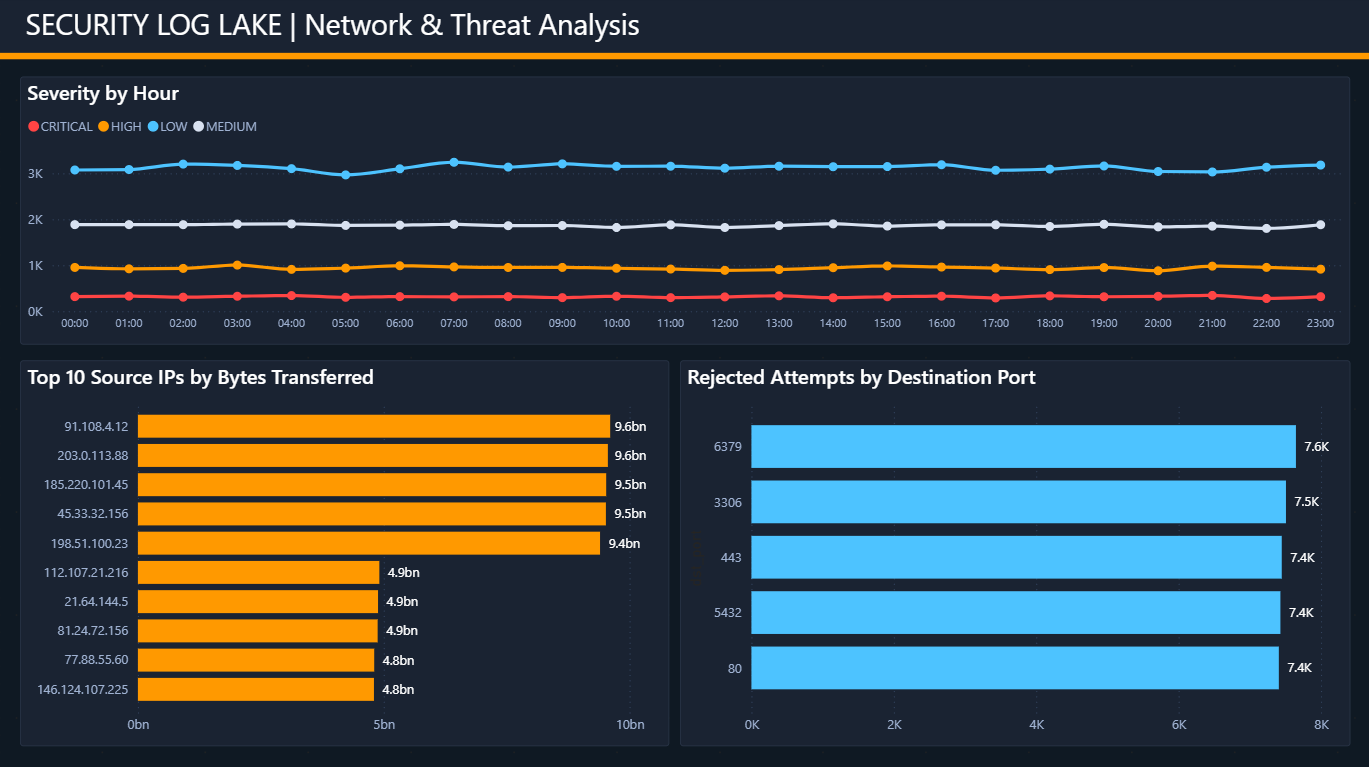

The dashboard page shown, as its layout file describes it:
{"tool":"powerbi","page":{"name":"Network & Threat Analysis","canvas":[1280,720],"ordinal":1},"visuals":[{"type":"shape","box":[0,0,1280,55],"z":0},{"type":"textbox","box":[20,3,820,50],"z":2000},{"type":"shape","box":[0,48,1280,16],"z":3000},{"type":"lineChart","title":"Severity by Hour","fields":{"Category":["q7_severity_by_hour.hour_label"],"Y":["Sum(q7_severity_by_hour.total)"],"Series":["q7_severity_by_hour.severity"]},"box":[20,75,1240,250],"z":4000},{"type":"clusteredBarChart","title":"Rejected Attempts by Destination Port","fields":{"Category":["q6_vpc_rejected_ports.dst_port"],"Y":["Sum(q6_vpc_rejected_ports.rejected_count)"]},"box":[635,340,625,360],"z":5000},{"type":"clusteredBarChart","title":"Top 10 Source IPs by Bytes Transferred","fields":{"Category":["q3_top_talkers.src_ip"],"Y":["Sum(q3_top_talkers.total_bytes)"]},"box":[20,340,605,360],"z":6000}]}

Visuals, with their boxes in screenshot pixels (x1, y1, x2, y2), scaled from the page's 1280x720 canvas onto the 1369x767 screenshot:
shape: detection(0, 0, 1368, 59)
textbox: detection(21, 3, 898, 56)
shape: detection(0, 51, 1368, 68)
"Severity by Hour" lineChart: detection(21, 80, 1348, 346)
"Rejected Attempts by Destination Port" clusteredBarChart: detection(679, 362, 1348, 746)
"Top 10 Source IPs by Bytes Transferred" clusteredBarChart: detection(21, 362, 668, 746)
